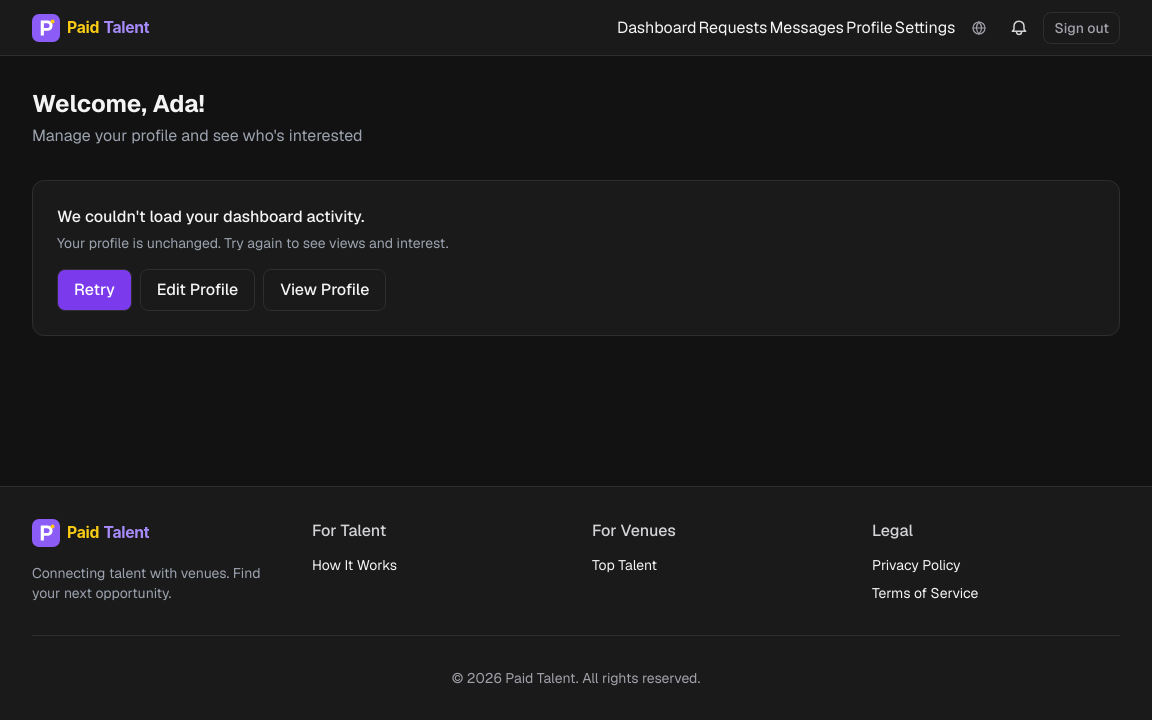
Scenario: WorkerDashboardPage › replaces the dashboard error with real stats after retry succeeds
Expected: the element with test id "dashboard-load-error" is shown, top-left (57, 206), bottom-right (448, 311)
What coordinates should you click on to do the following:
click the button "Retry"
I would click on:
 (94, 290)
Its box is top-left (57, 269), bottom-right (132, 311).
(page scrolled)
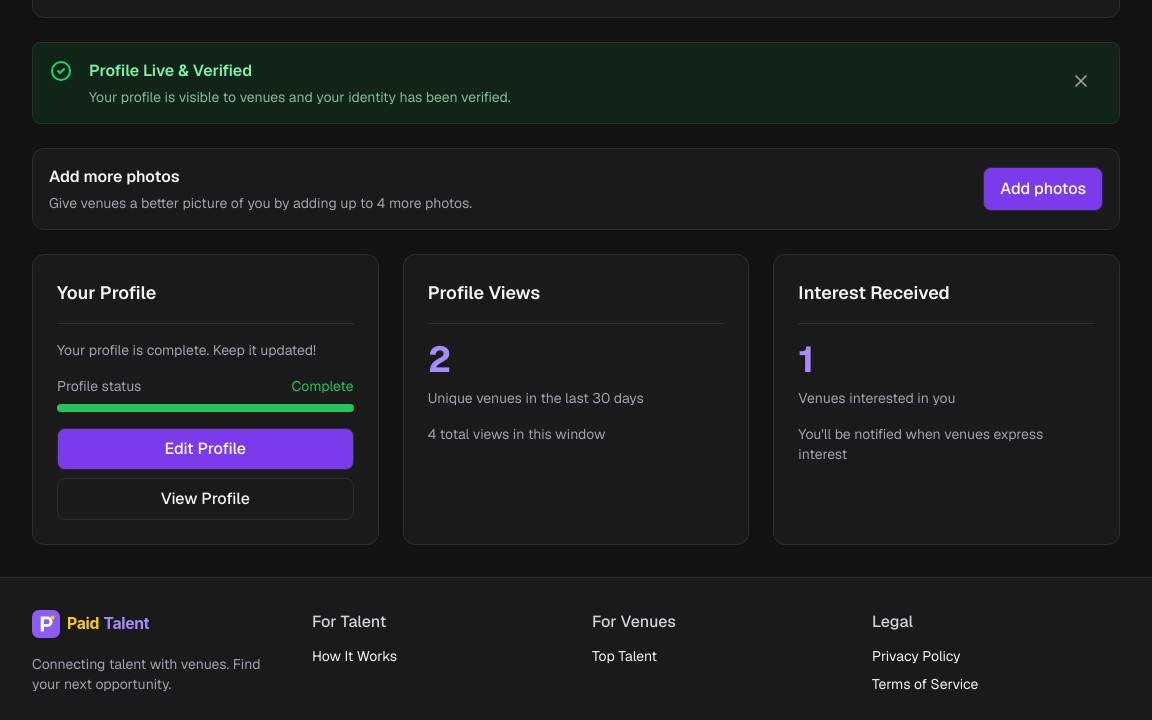
Result: the text with test id "profile-views-count" reads "2" at top-left (428, 336), bottom-right (451, 383)
Result: the text with test id "interest-received-count" reads "1" at top-left (798, 336), bottom-right (814, 383)
Result: the element with test id "dashboard-load-error" is gone
